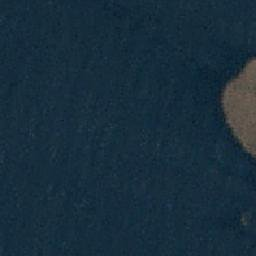debris: (223, 84, 256, 123), (228, 74, 243, 99), (243, 59, 256, 86), (229, 122, 256, 134), (234, 134, 256, 146), (219, 85, 228, 110), (243, 147, 256, 156)
